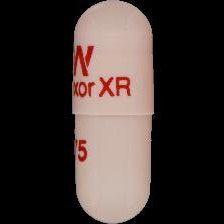21695-958: (0, 0, 224, 224)
